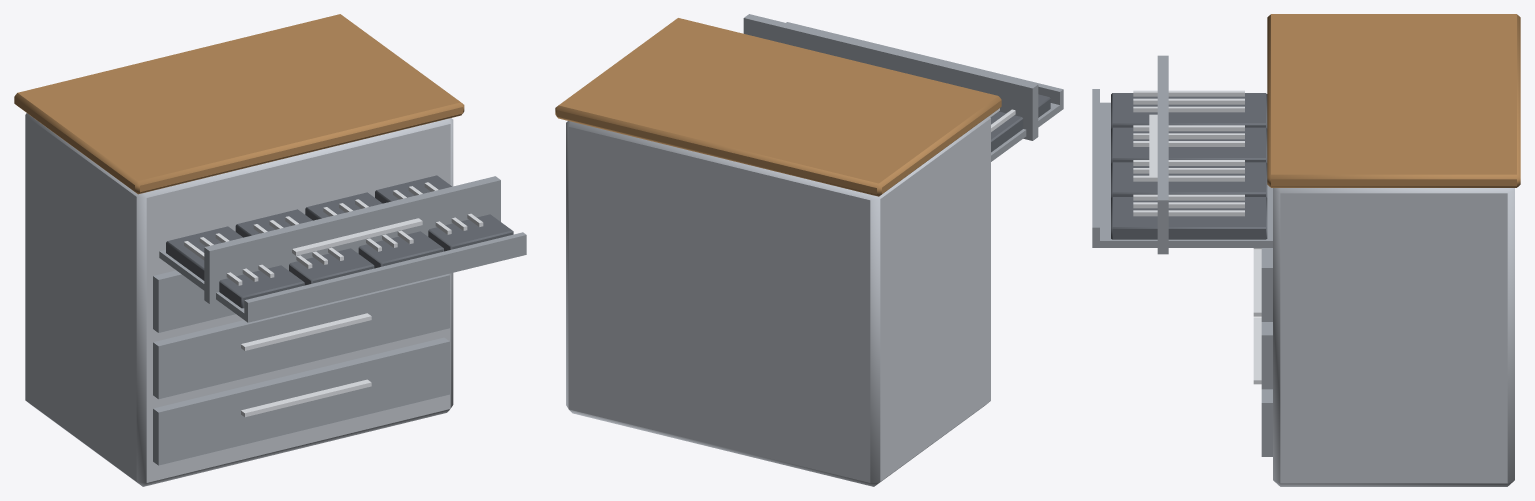
The model's file is galley_cutlery_drawer.glb.
3 renders of one model, left to right at view 1: azimuth 30°, elevation 25°; view 2: azimuth 150°, elevation 25°; view 3: azimuth 270°, elevation 25°, orthographic. The views are drawn at different scales.
Parts seen in each view (by area): view 1: galley_cutlery_drawer; view 2: galley_cutlery_drawer; view 3: galley_cutlery_drawer.
Boxes of the visible parts, bbox=[...] form: galley_cutlery_drawer: bbox=[14, 14, 526, 486]; galley_cutlery_drawer: bbox=[555, 14, 1063, 486]; galley_cutlery_drawer: bbox=[1092, 14, 1520, 486].
Size of the model in its own units: 1.04 by 0.94 by 1.15.
